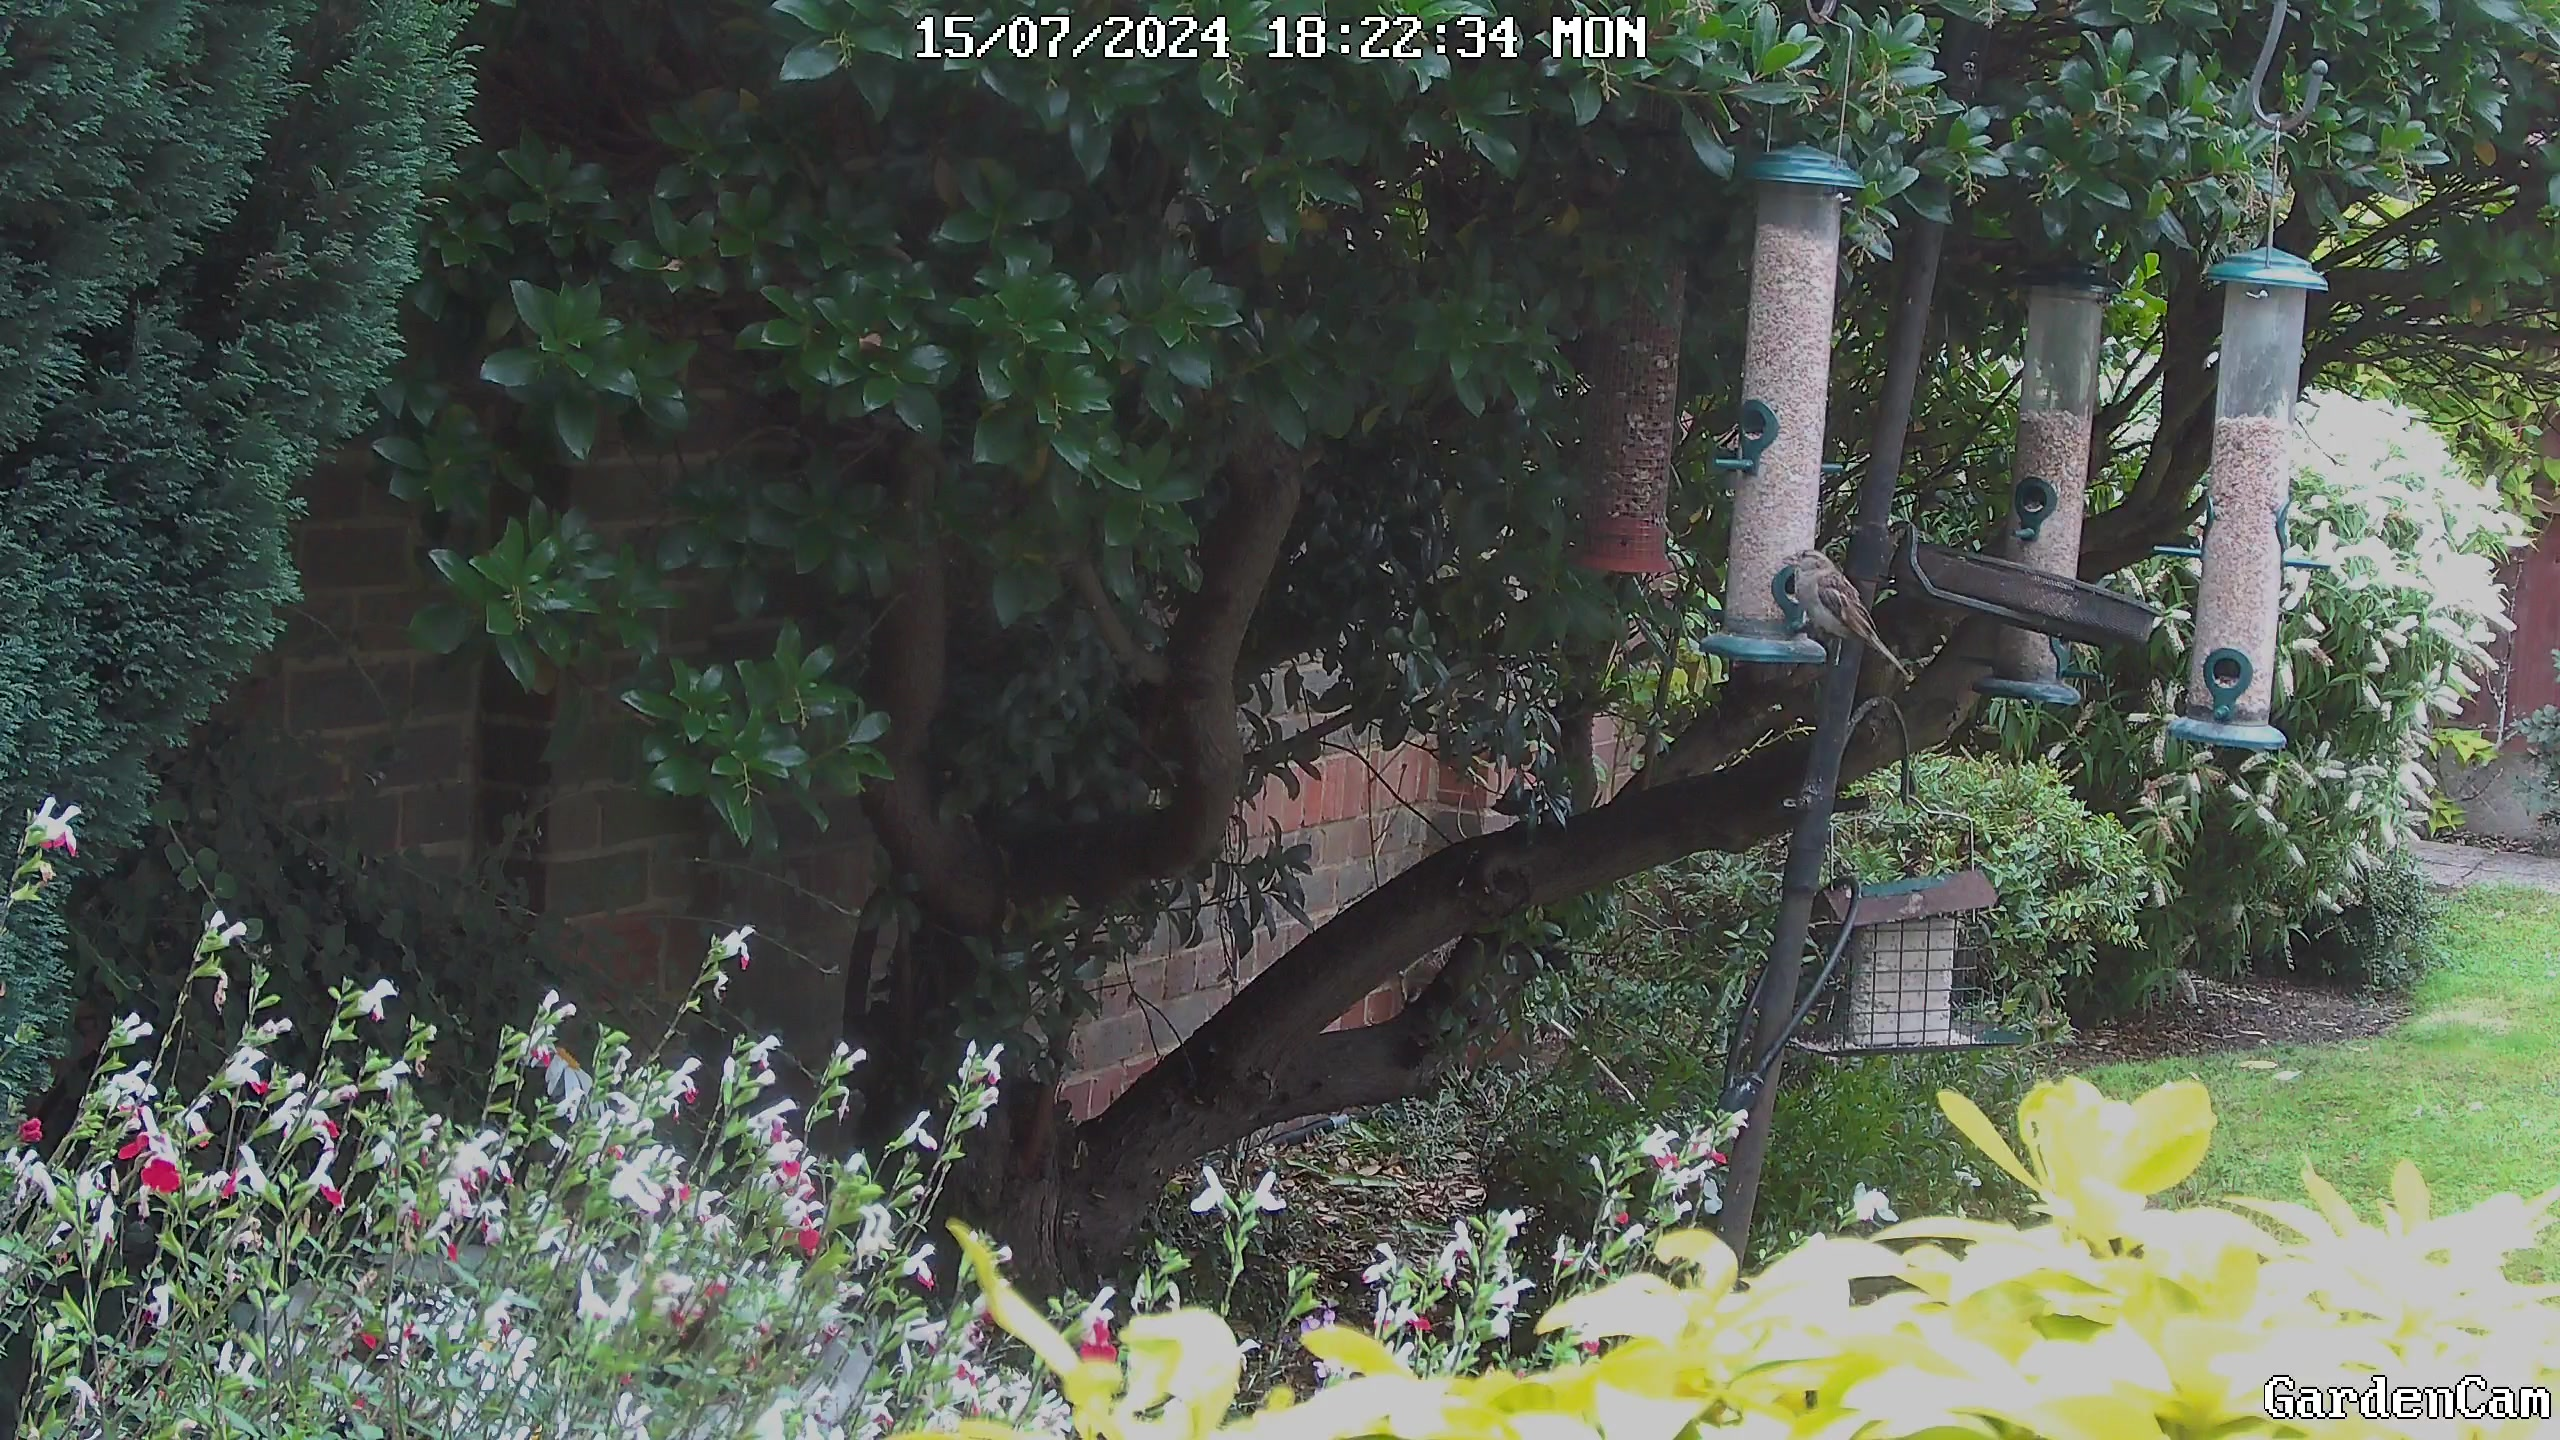House_Sparrow: (1749, 536, 1932, 705)
